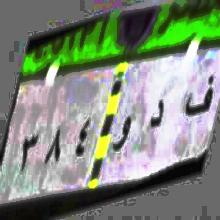3: (20, 123, 40, 177)
4: (71, 112, 94, 170)
8: (42, 122, 64, 172)
daal: (147, 93, 167, 138)
faa: (183, 63, 216, 128)
waw: (112, 105, 138, 162)
